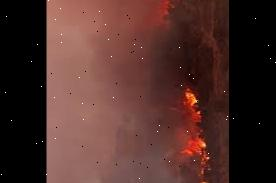fire: (180, 84, 217, 183), (152, 0, 185, 19)
